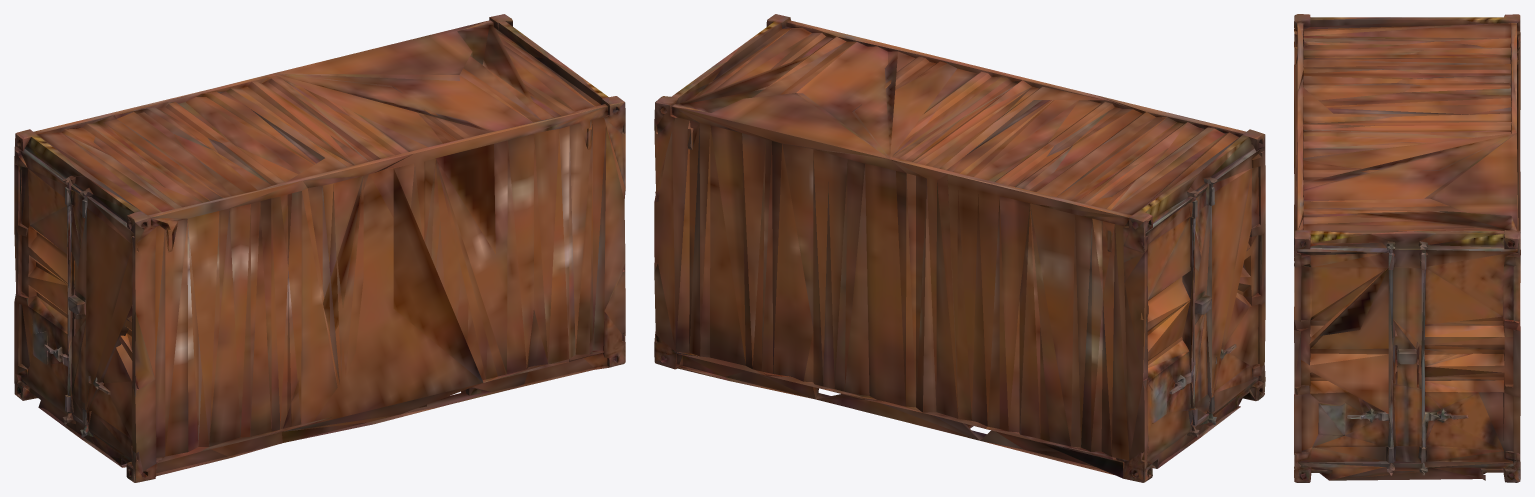
Rendered from container_orange.glb.
3 renders of one model, left to right at view 1: azimuth 30°, elevation 25°; view 2: azimuth 150°, elevation 25°; view 3: azimuth 270°, elevation 25°, orthographic. The views are drawn at different scales.
Parts seen in each view (by area): view 1: Mesh_0; view 2: Mesh_0; view 3: Mesh_0.
Boxes of the visible parts, x1,y1,x2,y2 form: Mesh_0: (14,14,625,482); Mesh_0: (654,14,1265,482); Mesh_0: (1294,14,1520,482).
Size of the model in its own units: 1.9 by 0.9662 by 0.8061.
Materials: 1 (1 with a texture image).
